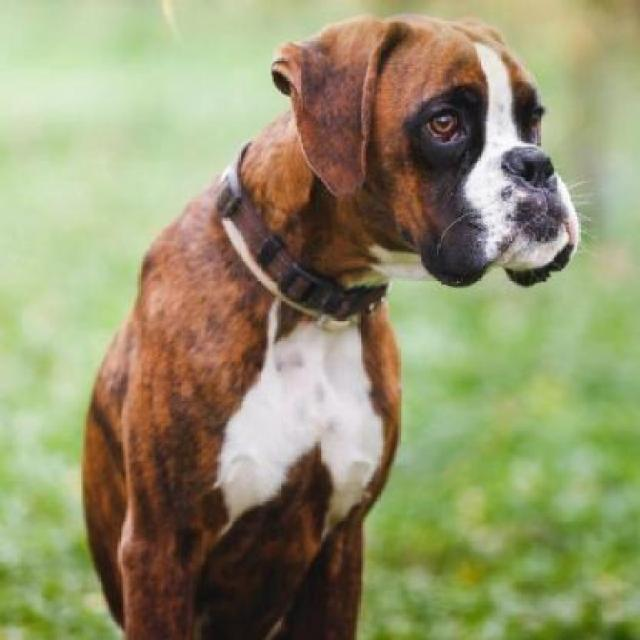animals: (74, 2, 586, 632)
